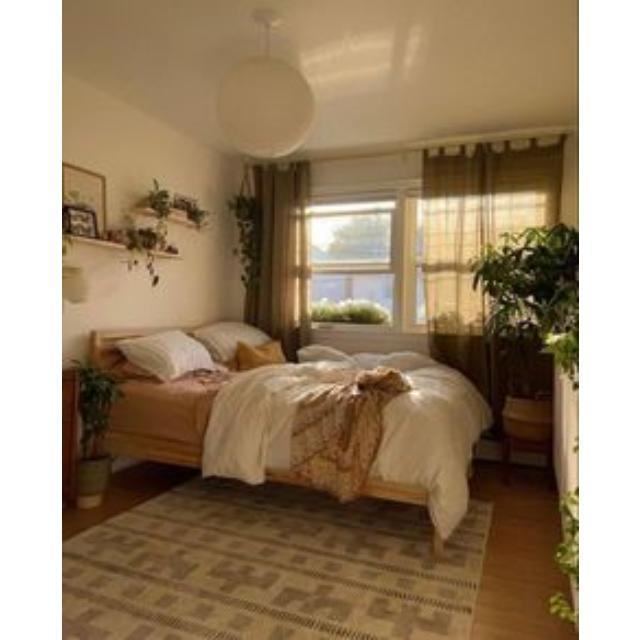bed: (91, 321, 491, 552)
curtain: (424, 141, 560, 323), (231, 164, 308, 359)
light: (217, 10, 314, 157)
plant: (471, 224, 578, 376), (107, 180, 206, 284), (76, 365, 120, 508)
rug: (62, 479, 491, 640)
wall-art: (61, 164, 104, 237)
